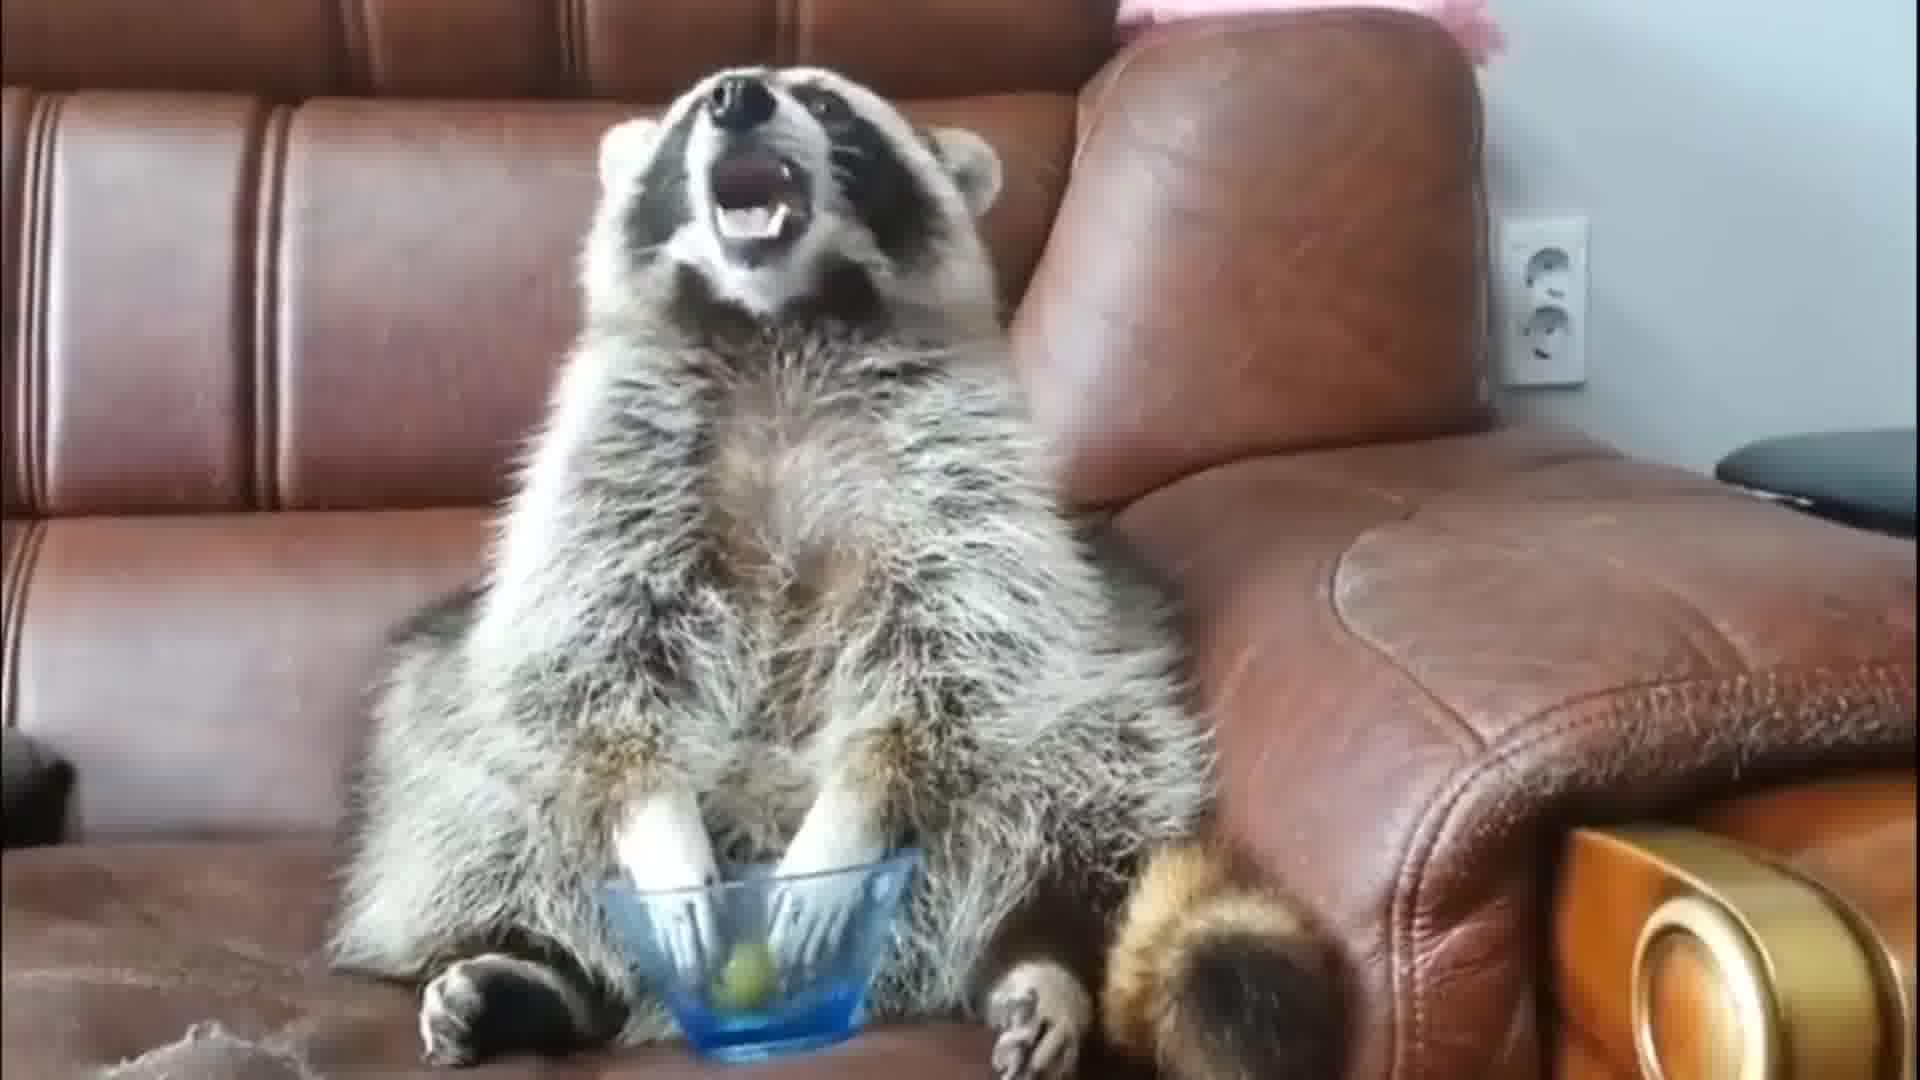raccoon: (326, 55, 1364, 1080)
